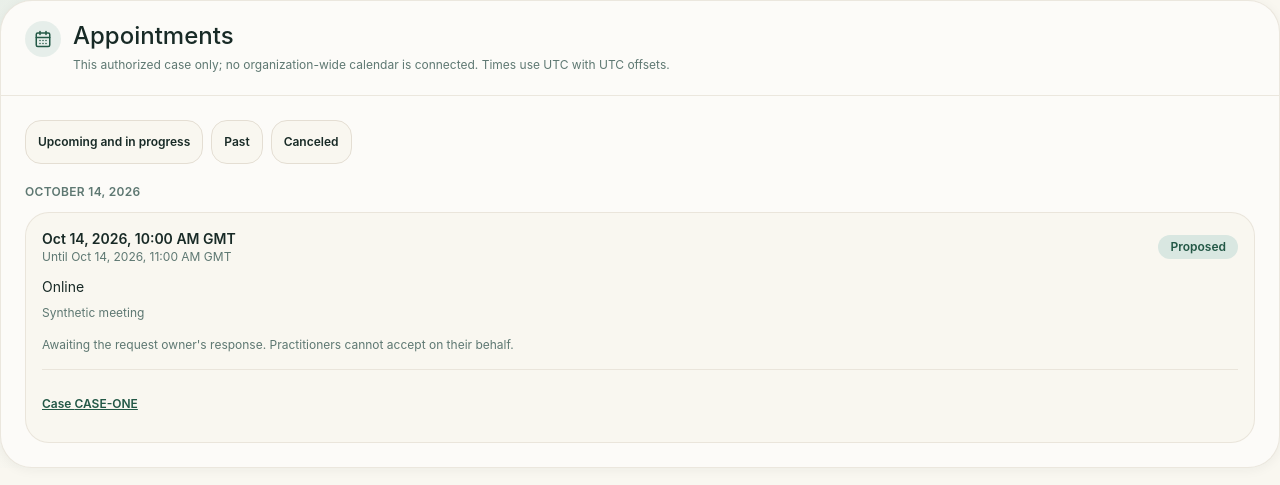
Test case: FE-020 case agenda › supports period controls, scoped case links, safe times and permission-gated rescheduling
Expected: the text "Synthetic meeting" is shown, [42,305,144,320]
Click the button "Past".
click(237, 142)  # box [211,120,263,164]
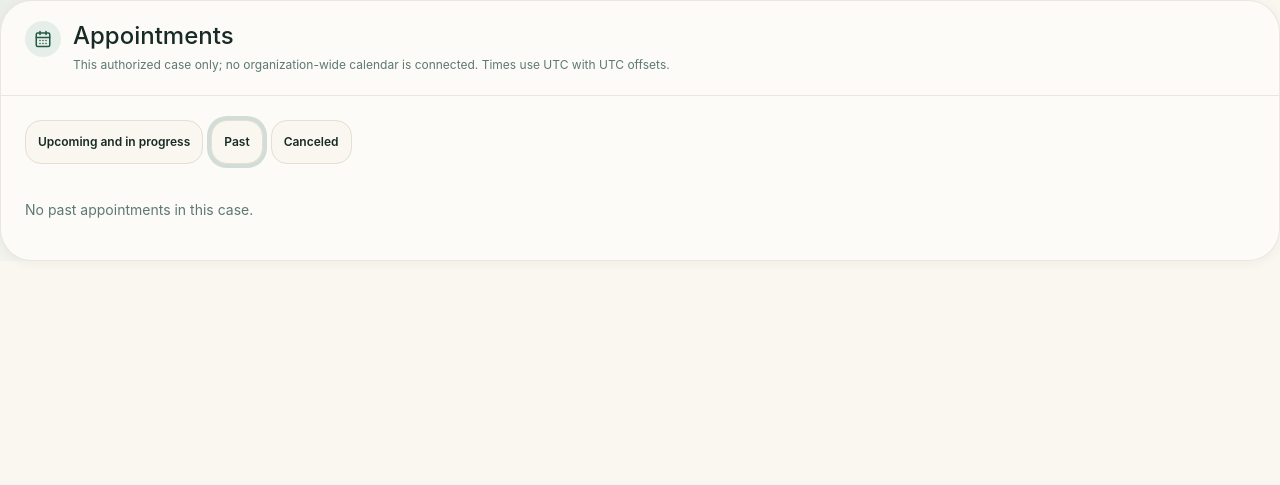
Result: the message shows "No past appointments" at [25,201,253,218]
